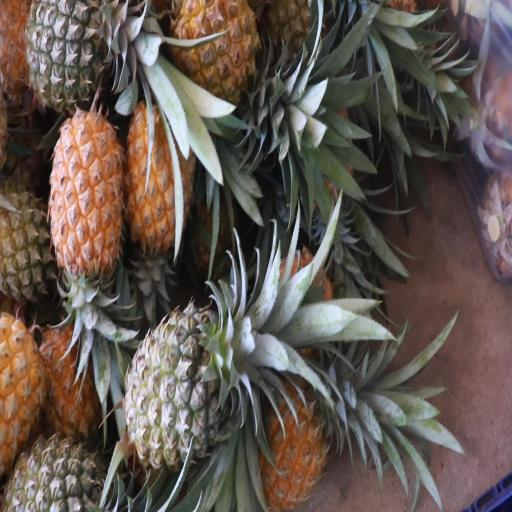Pineapple - v8 v1: (173, 0, 290, 140), (56, 101, 128, 314), (122, 94, 193, 257), (0, 302, 53, 469)
